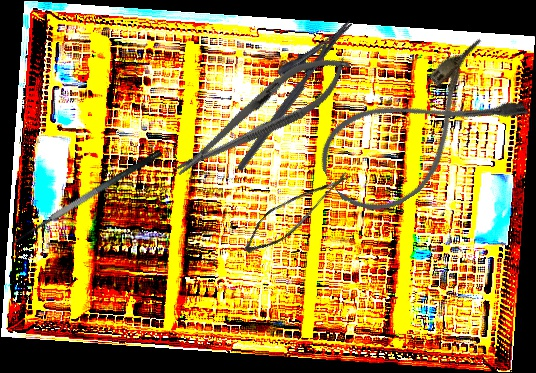Cannula: (307, 34, 532, 230)
Micro Scissor: (238, 150, 352, 270)
Needle Holder: (163, 39, 360, 192), (215, 3, 355, 173)
Spatula Surgical: (5, 147, 171, 257)
